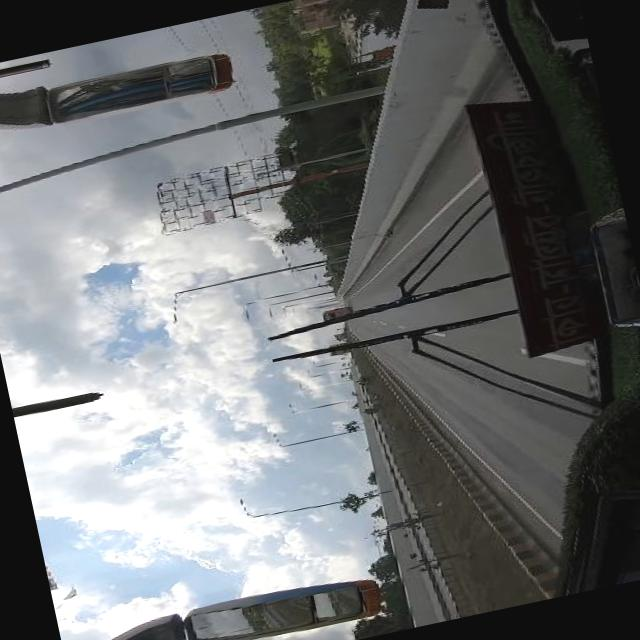bus: (320, 304, 353, 318)
